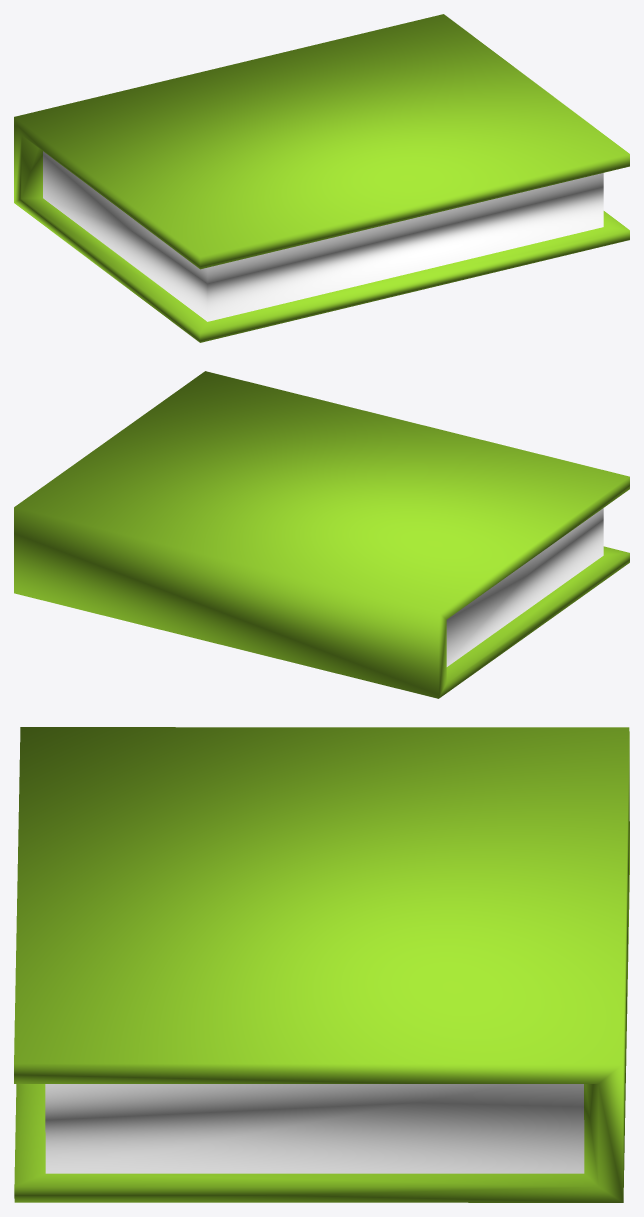
The model's file is Book.fbx.
The picture shows the model from 3 angles, top to bottom: view 1: azimuth 30°, elevation 25°; view 2: azimuth 150°, elevation 25°; view 3: azimuth 270°, elevation 25°; orthographic projection. The views are drawn at different scales.
Parts seen in each view (by area): view 1: Book; view 2: Book; view 3: Book.
Boxes of the visible parts, x1,y1,x2,y2 form: Book: [14, 14, 629, 342]; Book: [14, 371, 629, 698]; Book: [14, 727, 629, 1202].
Size of the model in its own units: 0.1306 by 0.0253 by 0.1004.
1 material, 1 textured.
